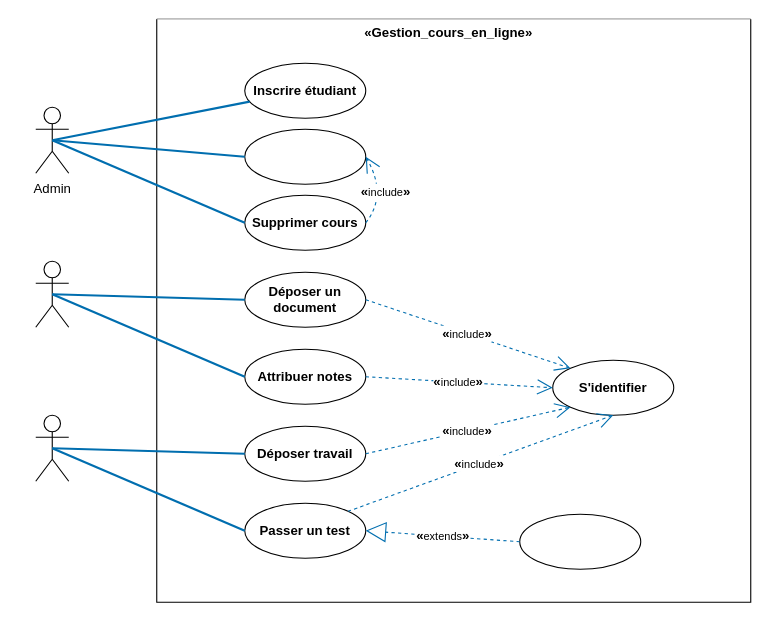
This 770x622 diagram has some shape labels left out. The centre of each missing label's shape, as x and y in pixels:
"Enseignant" goes at point (52, 293).
"Etudiant" goes at point (52, 447).
"Quitter test" goes at point (580, 541).
"Retirer étudiant" goes at point (305, 156).
